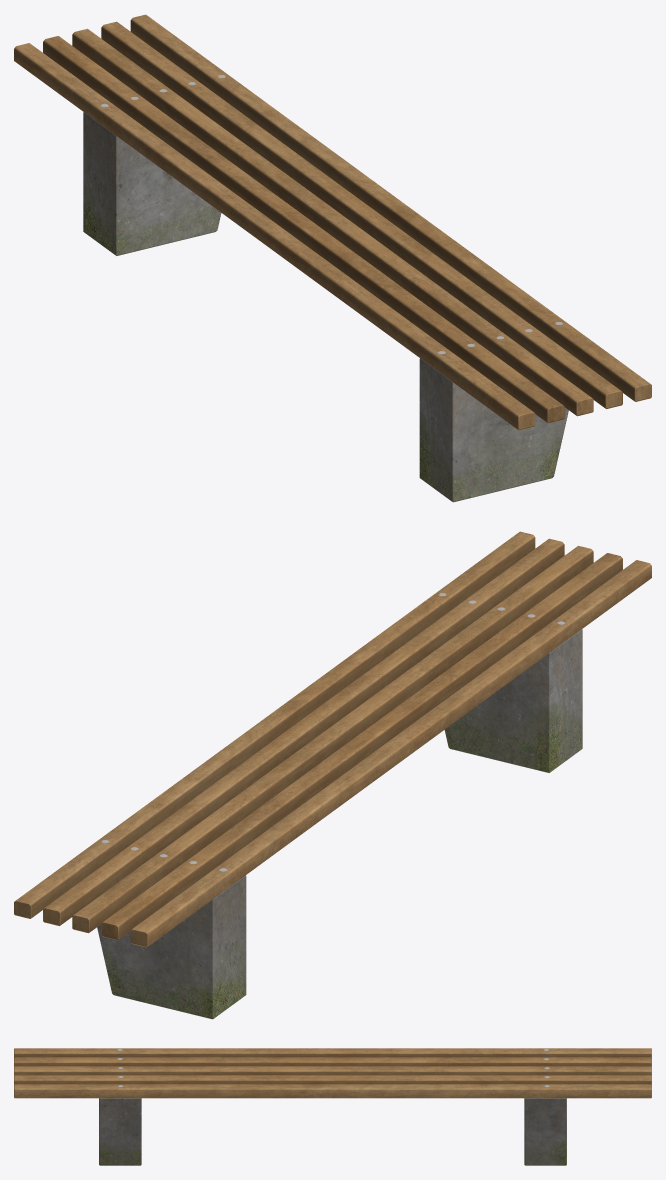
Rendered from bench.fbx.
The picture shows the model from 3 angles, top to bottom: view 1: azimuth 30°, elevation 25°; view 2: azimuth 150°, elevation 25°; view 3: azimuth 270°, elevation 25°; orthographic projection. The views are drawn at different scales.
Parts seen in each view (by area): view 1: bench; view 2: bench; view 3: bench.
Boxes of the visible parts, left/top/right/bottom form: bench: left=14, top=14, right=651, bottom=502; bench: left=14, top=531, right=651, bottom=1019; bench: left=14, top=1048, right=651, bottom=1165.
Bounding box in the file's own units: 28.96 × 28.33 × 189.
Materials: 1 (1 with a texture image).
